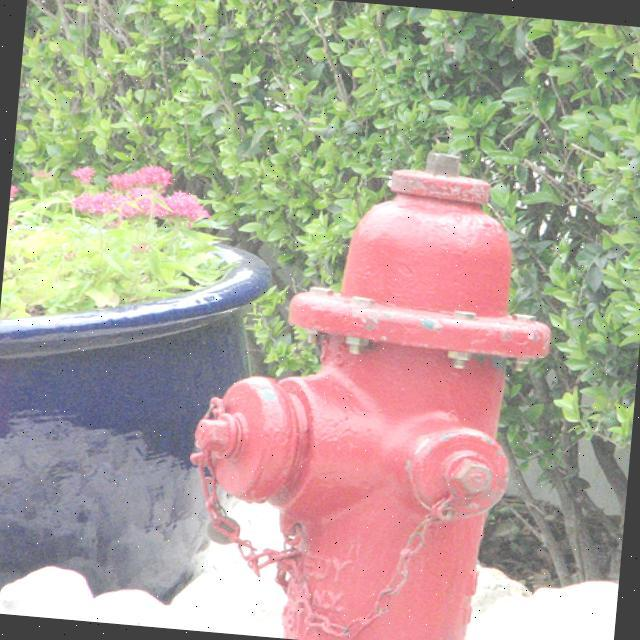fire_hydrant: (172, 133, 567, 640)
